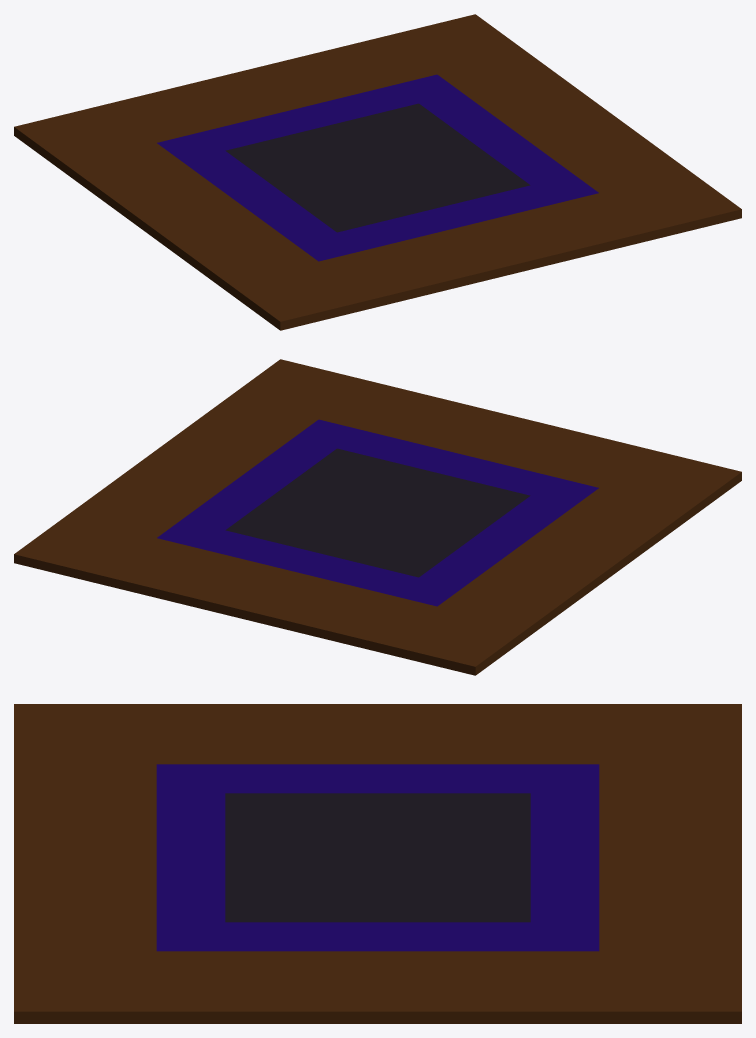
The model's file is Tatami.fbx.
The picture shows the model from 3 angles, top to bottom: view 1: azimuth 30°, elevation 25°; view 2: azimuth 150°, elevation 25°; view 3: azimuth 270°, elevation 25°; orthographic projection. The views are drawn at different scales.
Parts seen in each view (by area): view 1: Tatami; view 2: Tatami; view 3: Tatami.
Part boxes in pixels (left/top/right/bottom): Tatami: left=14, top=14, right=741, bottom=330; Tatami: left=14, top=359, right=741, bottom=675; Tatami: left=14, top=704, right=741, bottom=1023.
Bounding box in the file's own units: 2 × 0.037 × 2.
